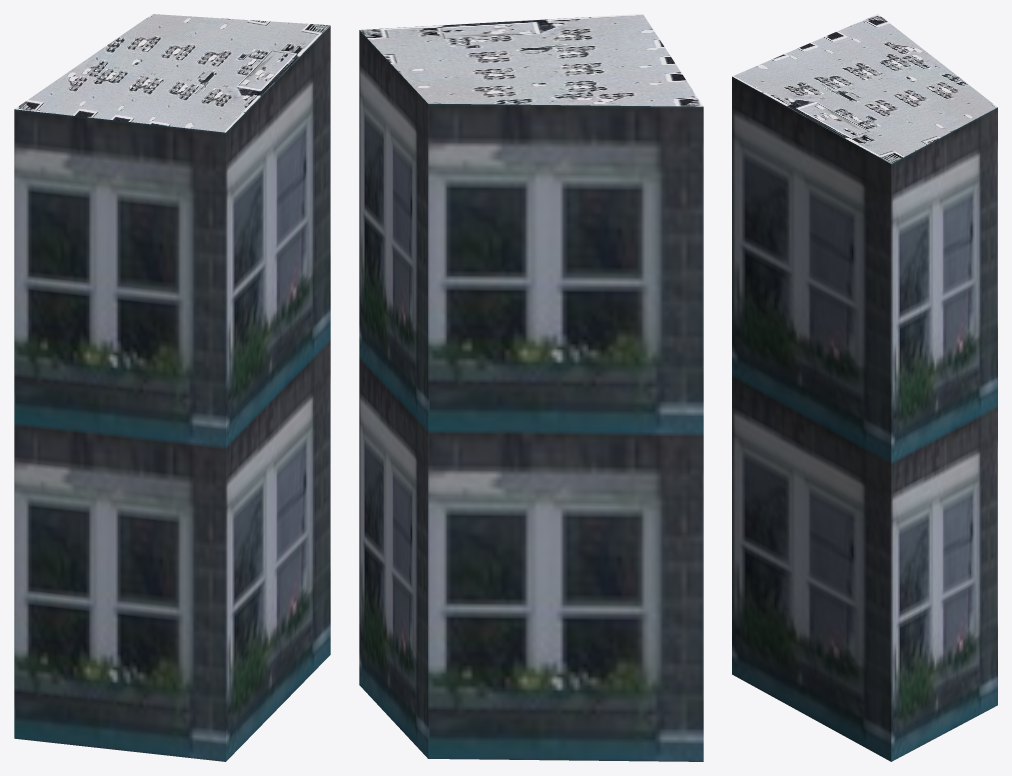
Rendered from ResTex__2944.fbx.
The picture shows the model from 3 angles, left to right: view 1: azimuth 30°, elevation 25°; view 2: azimuth 150°, elevation 25°; view 3: azimuth 270°, elevation 25°; orthographic projection. The views are drawn at different scales.
Parts seen in each view (by area): view 1: CityEngineMaterial_11_m, CityEngineMaterial_8_m; view 2: CityEngineMaterial_11_m, CityEngineMaterial_8_m; view 3: CityEngineMaterial_11_m, CityEngineMaterial_8_m.
Boxes of the visible parts, x1=… form: CityEngineMaterial_11_m: x1=14, y1=26, x2=330, y2=761; CityEngineMaterial_8_m: x1=14, y1=14, x2=330, y2=132; CityEngineMaterial_11_m: x1=359, y1=30, x2=703, y2=761; CityEngineMaterial_8_m: x1=360, y1=14, x2=702, y2=106; CityEngineMaterial_11_m: x1=732, y1=76, x2=997, y2=761; CityEngineMaterial_8_m: x1=732, y1=14, x2=997, y2=163.
Size of the model in its own units: 3.23 by 6 by 2.42.
Materials: 2 (2 with a texture image).
